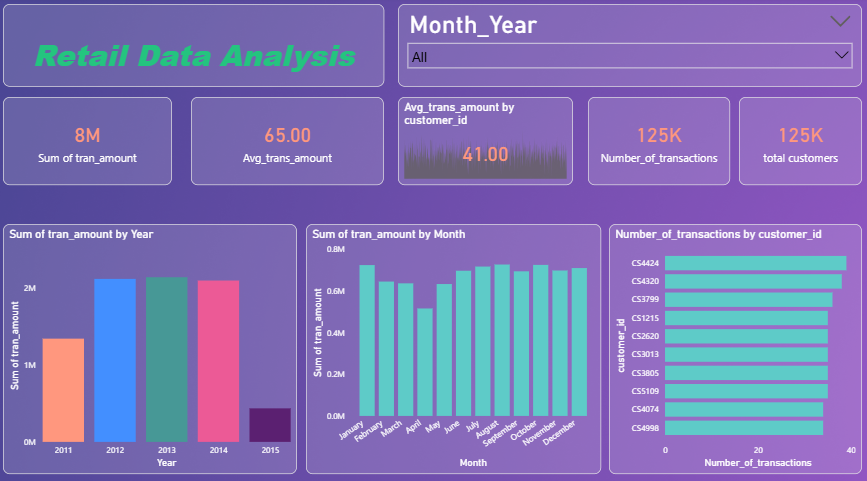

This screenshot's page, from the dashboard's own definition file:
{"tool":"powerbi","page":{"name":"Page 1","canvas":[1280,720],"ordinal":0},"visuals":[{"type":"clusteredColumnChart","fields":{"Y":["Sum(MainData.tran_amount)"],"Category":["MainData.month_year.Variation.Date Hierarchy.Year"]},"box":[11.7,332.2,430.2,365.9],"z":0},{"type":"textbox","box":[11.7,10.2,557.6,121.5],"z":1000},{"type":"clusteredColumnChart","fields":{"Y":["Sum(MainData.tran_amount)"],"Category":["MainData.month_year.Variation.Date Hierarchy.Month"]},"box":[455.1,332.2,431.7,365.9],"z":2000},{"type":"slicer","fields":{"Values":["MainData.month_year.Variation.Date Hierarchy.Year","MainData.month_year.Variation.Date Hierarchy.Quarter","MainData.month_year.Variation.Date Hierarchy.Month","MainData.month_year.Variation.Date Hierarchy.Day"]},"box":[589.8,10.2,679,121.5],"z":3000},{"type":"card","fields":{"Values":["Sum(MainData.tran_amount)"]},"box":[11.7,146.3,247.3,128.8],"z":4000},{"type":"card","fields":{"Values":["MainData.Avg_trans_amount"]},"box":[286.8,146.3,282.4,128.8],"z":5000},{"type":"kpi","fields":{"Indicator":["MainData.Avg_trans_amount"],"TrendLine":["MainData.customer_id"]},"box":[589.8,146.3,256.1,128.8],"z":6000},{"type":"card","fields":{"Values":["MainData.Number_of_transactions"]},"box":[867.8,146.3,207.8,128.8],"z":7000},{"type":"card","fields":{"Values":["MainData.total customers"]},"box":[1088.8,146.3,180,128.8],"z":8000},{"type":"clusteredBarChart","fields":{"Y":["MainData.Number_of_transactions"],"Category":["MainData.customer_id"]},"box":[898.5,332.2,370.2,365.9],"z":9000}]}

Visuals, with their boxes in screenshot pixels (x1, y1, x2, y2), scaled from the page's 1280x720 canvas onto the 867x481 screenshot:
clusteredColumnChart - Sum(MainData.tran_amount) x MainData.month_year.Variation.Date Hierarchy.Year: x1=8, y1=222, x2=299, y2=466
textbox: x1=8, y1=7, x2=386, y2=88
clusteredColumnChart - Sum(MainData.tran_amount) x MainData.month_year.Variation.Date Hierarchy.Month: x1=308, y1=222, x2=601, y2=466
slicer - MainData.month_year.Variation.Date Hierarchy.Year x MainData.month_year.Variation.Date Hierarchy.Quarter: x1=399, y1=7, x2=859, y2=88
card - Sum(MainData.tran_amount): x1=8, y1=98, x2=175, y2=184
card - MainData.Avg_trans_amount: x1=194, y1=98, x2=386, y2=184
kpi - MainData.Avg_trans_amount x MainData.customer_id: x1=399, y1=98, x2=573, y2=184
card - MainData.Number_of_transactions: x1=588, y1=98, x2=729, y2=184
card - MainData.total customers: x1=737, y1=98, x2=859, y2=184
clusteredBarChart - MainData.Number_of_transactions x MainData.customer_id: x1=609, y1=222, x2=859, y2=466
